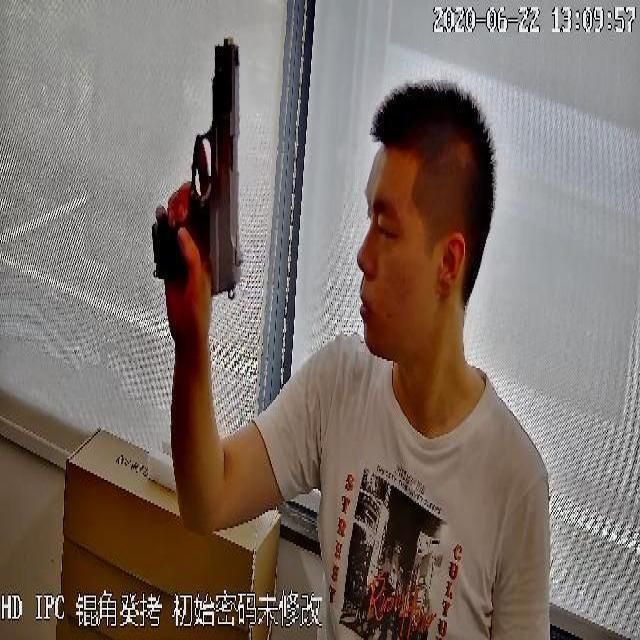pistol: (153, 35, 244, 305)
